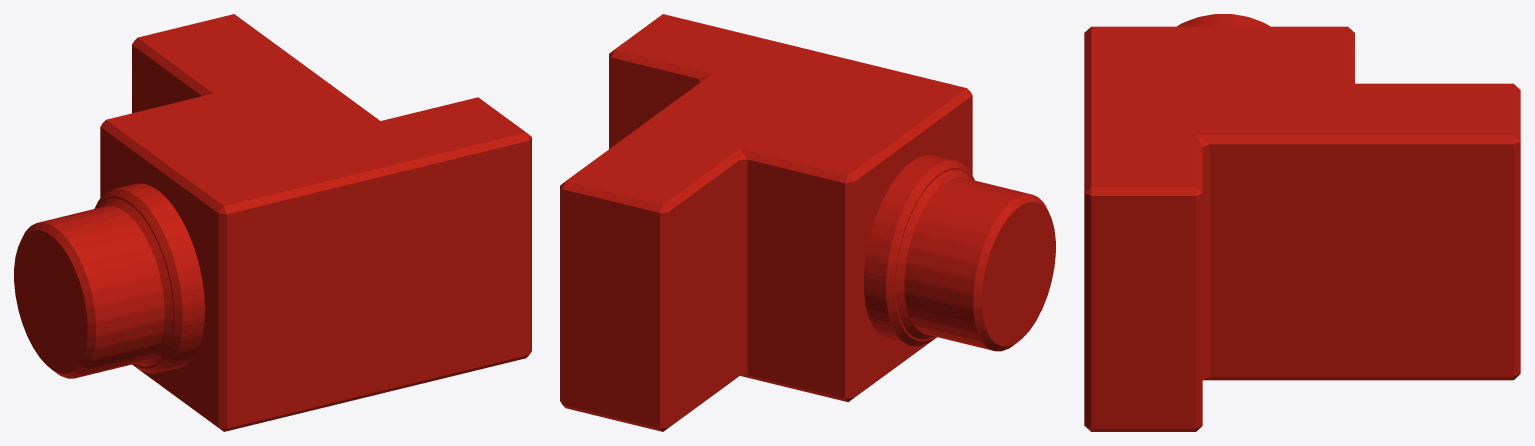
The model's file is assembly_sensor_part_red.dae.
3 views of the same model, side by side, from view 1: azimuth 30°, elevation 25°; view 2: azimuth 150°, elevation 25°; view 3: azimuth 270°, elevation 25° (orthographic). The views are drawn at different scales.
Visible parts, largest first — view 1: inputSensor; view 2: inputSensor; view 3: inputSensor.
Boxes of the visible parts, left/top/right/bottom form: inputSensor: left=14, top=14, right=531, bottom=431; inputSensor: left=560, top=14, right=1055, bottom=431; inputSensor: left=1084, top=14, right=1520, bottom=431.
Bounding box in the file's own units: 0.1313 × 0.1087 × 0.0674.
